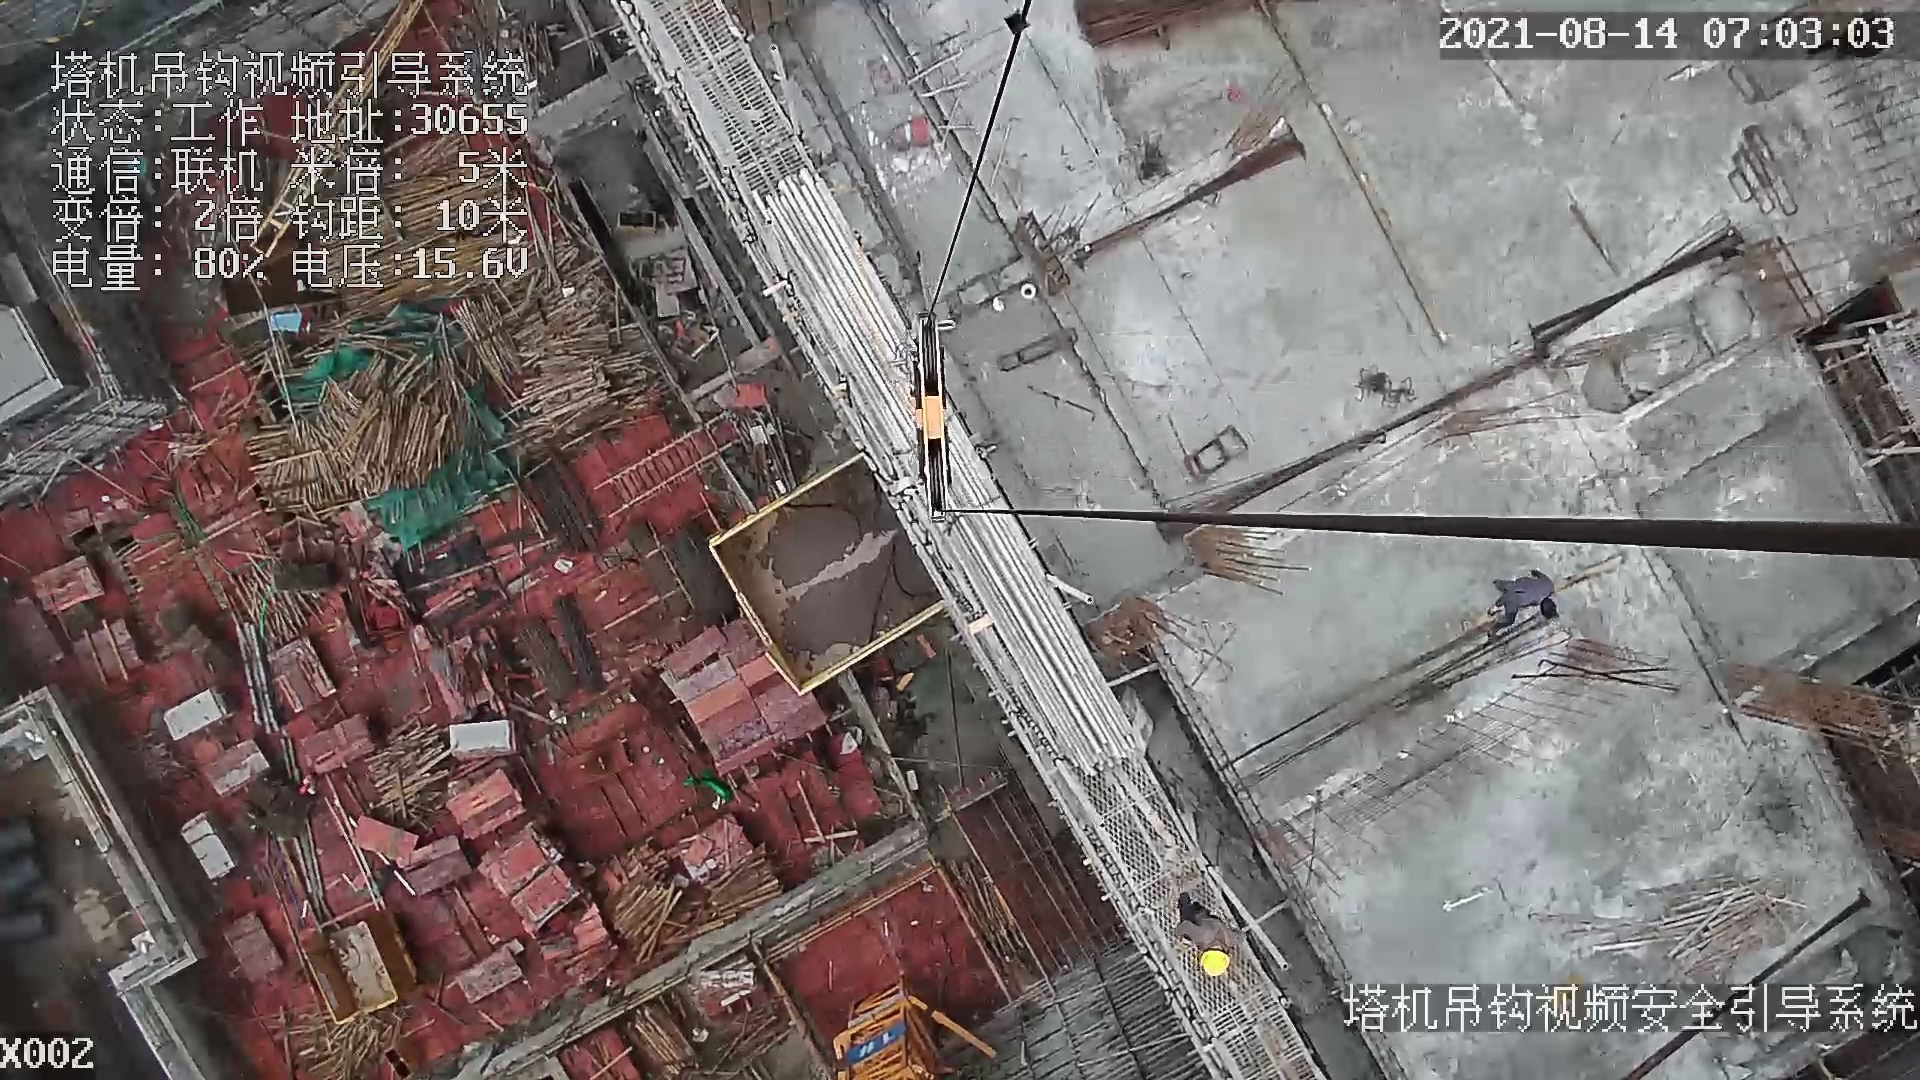helmet: (1197, 947, 1233, 980)
hook: (891, 305, 963, 524)
person: (1485, 569, 1560, 637), (1179, 900, 1244, 978)
slogan: (843, 1022, 910, 1058)
